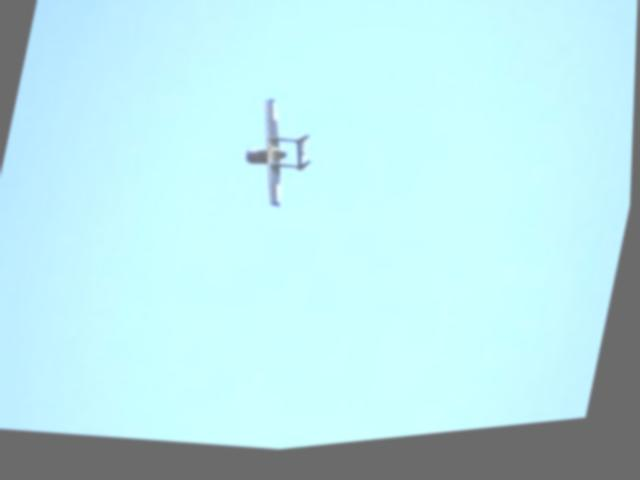uav: (234, 92, 325, 220)
